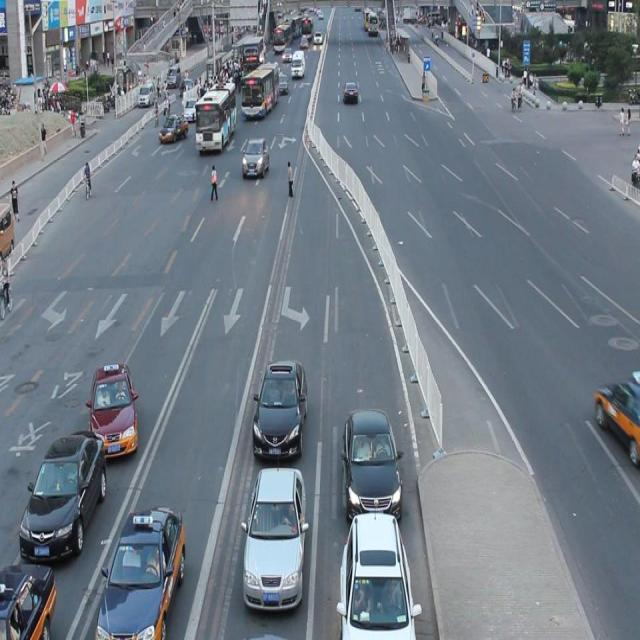car: (95, 501, 186, 640), (19, 428, 108, 562), (338, 507, 416, 640), (241, 461, 307, 610), (341, 407, 403, 523), (251, 355, 307, 460), (88, 360, 139, 458), (1, 559, 57, 640), (592, 376, 640, 458), (241, 136, 269, 177)
